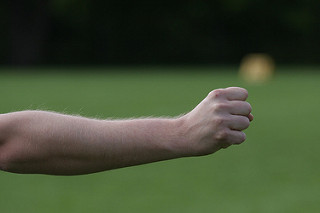fist: (191, 84, 257, 164)
